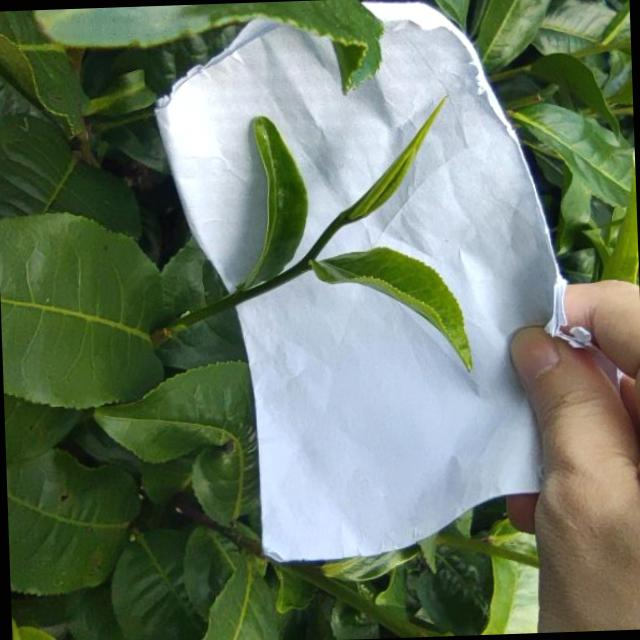Stem: (321, 224, 336, 242)
